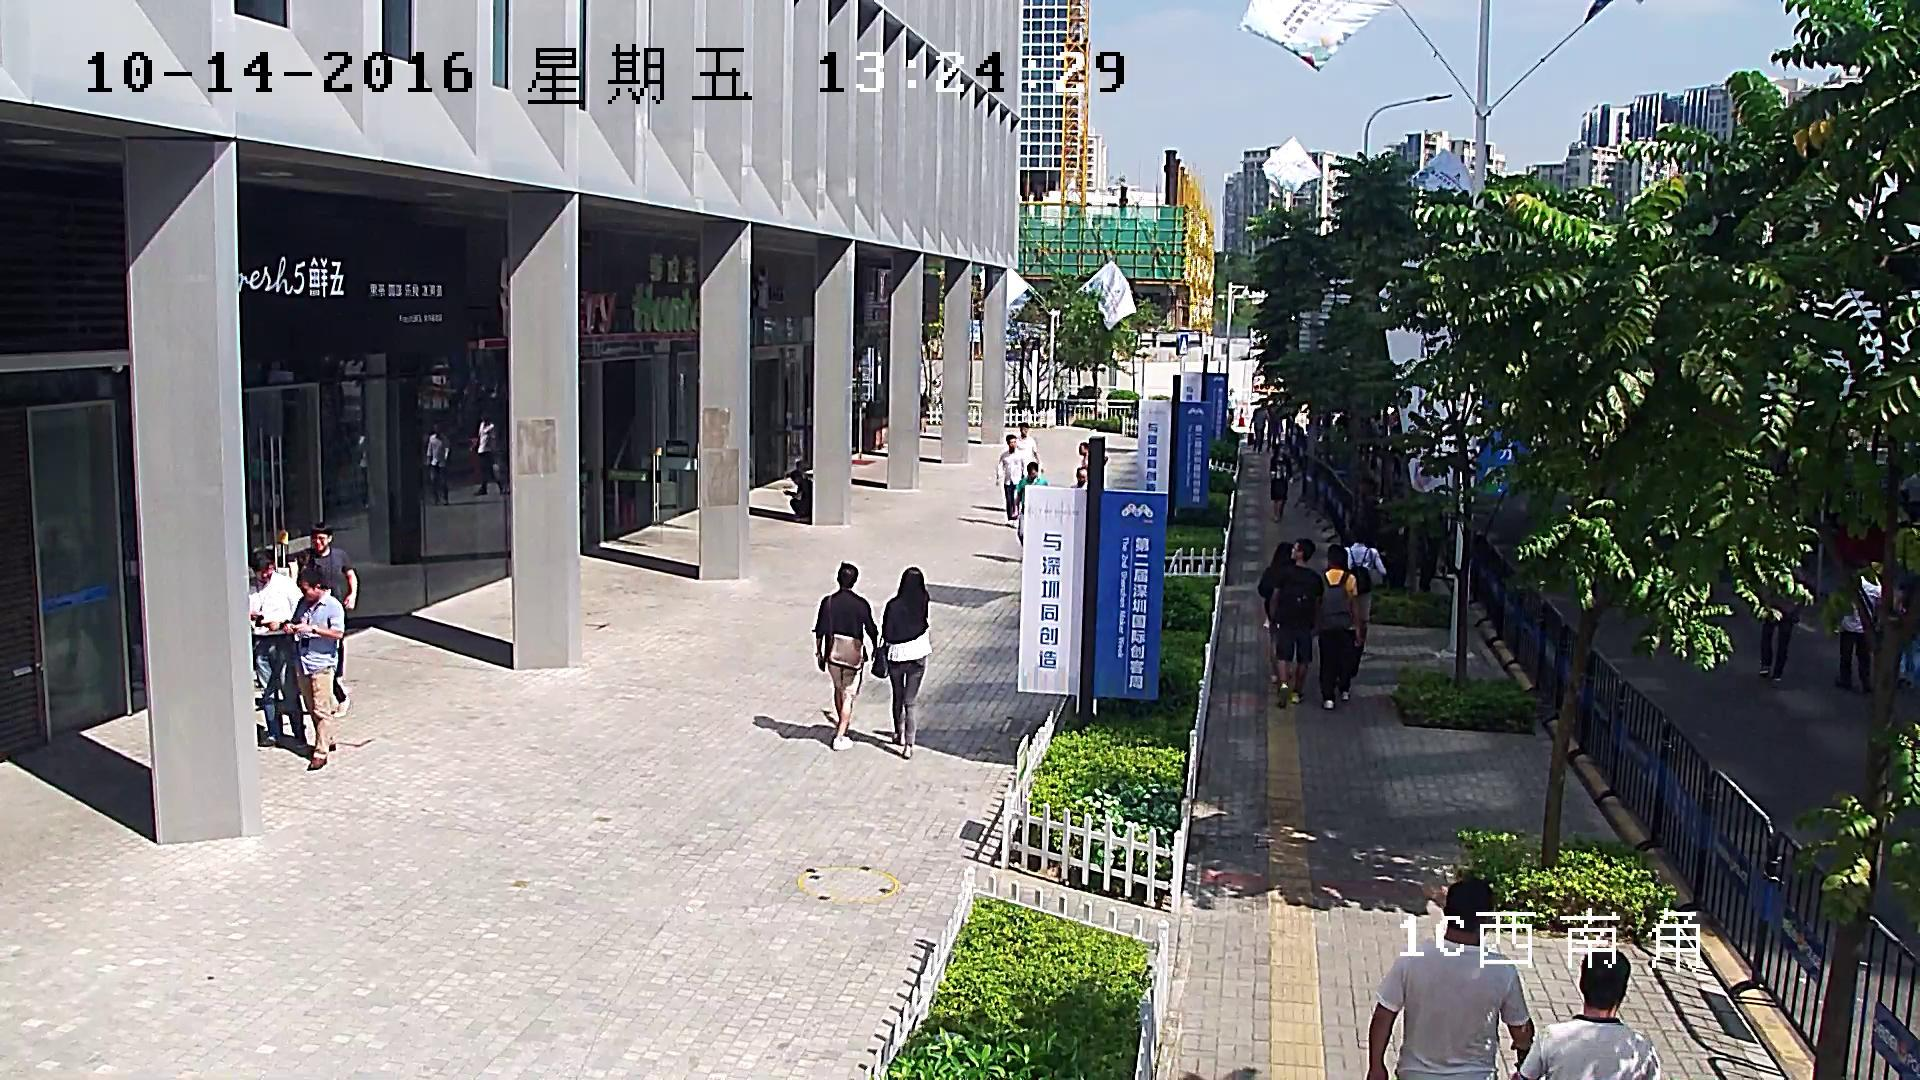person: (1366, 876, 1535, 1080), (1512, 947, 1662, 1080), (811, 560, 877, 749), (283, 568, 344, 770), (870, 565, 932, 758), (285, 521, 358, 686), (249, 551, 307, 748), (1268, 537, 1323, 708), (1317, 543, 1360, 710), (1834, 564, 1881, 695), (1761, 568, 1811, 682), (1343, 529, 1386, 655), (1257, 541, 1294, 682), (471, 414, 507, 496), (994, 434, 1025, 528), (1015, 462, 1048, 547), (426, 421, 450, 505), (1270, 444, 1294, 523), (782, 469, 812, 522), (1015, 422, 1044, 473), (1247, 399, 1270, 455)
